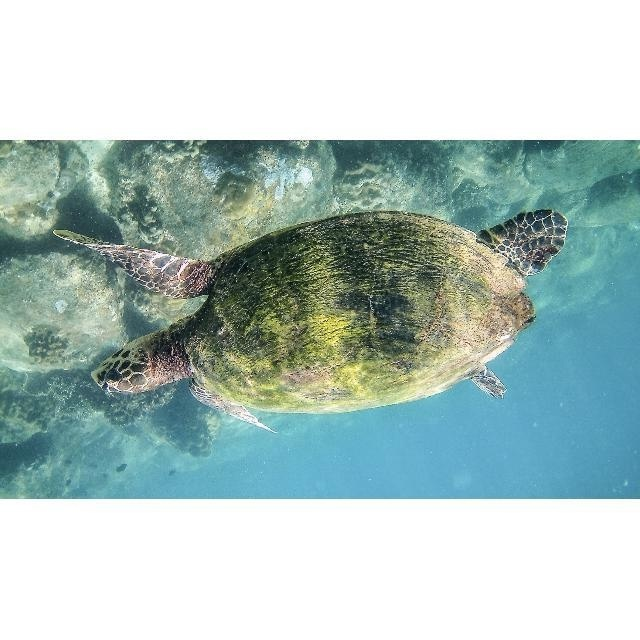turtle: (52, 211, 568, 433)
